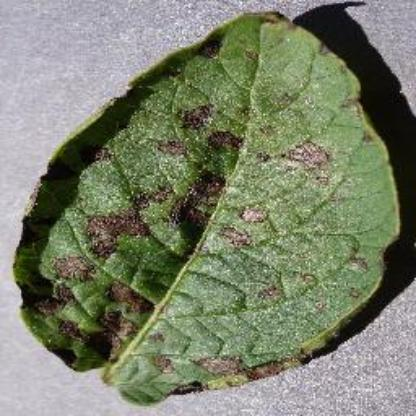Early-Blight: (14, 8, 406, 404)
